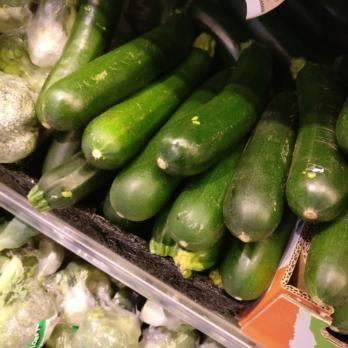Cucumber: (62, 2, 348, 219)
